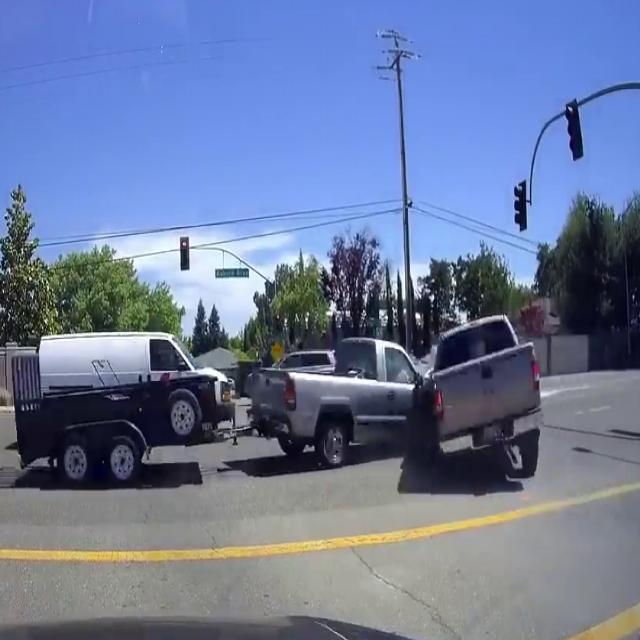accident: (345, 324, 554, 481)
